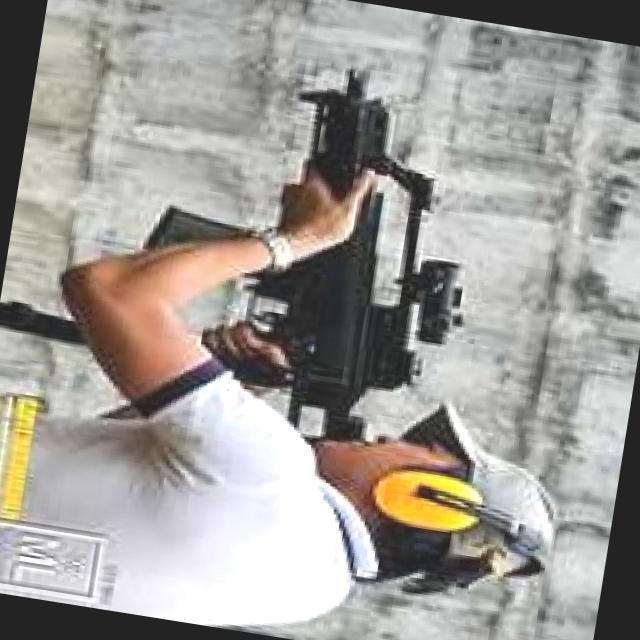long weapon: (153, 37, 484, 418)
